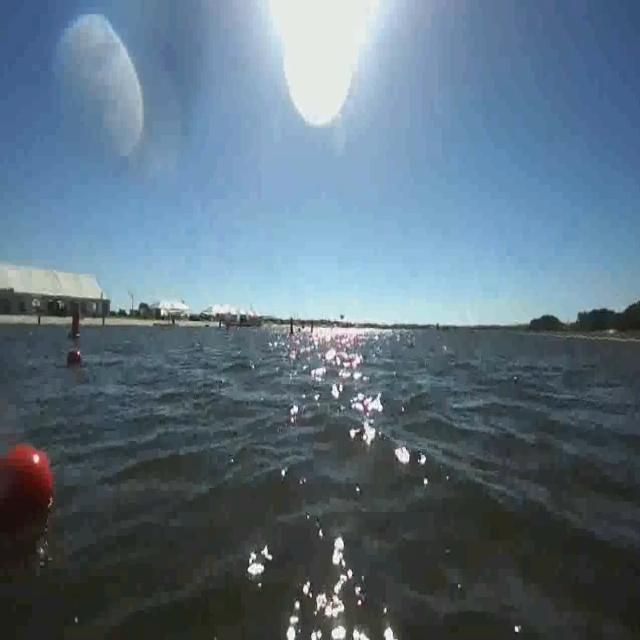red-buoy: (0, 445, 53, 511), (67, 352, 81, 363)
